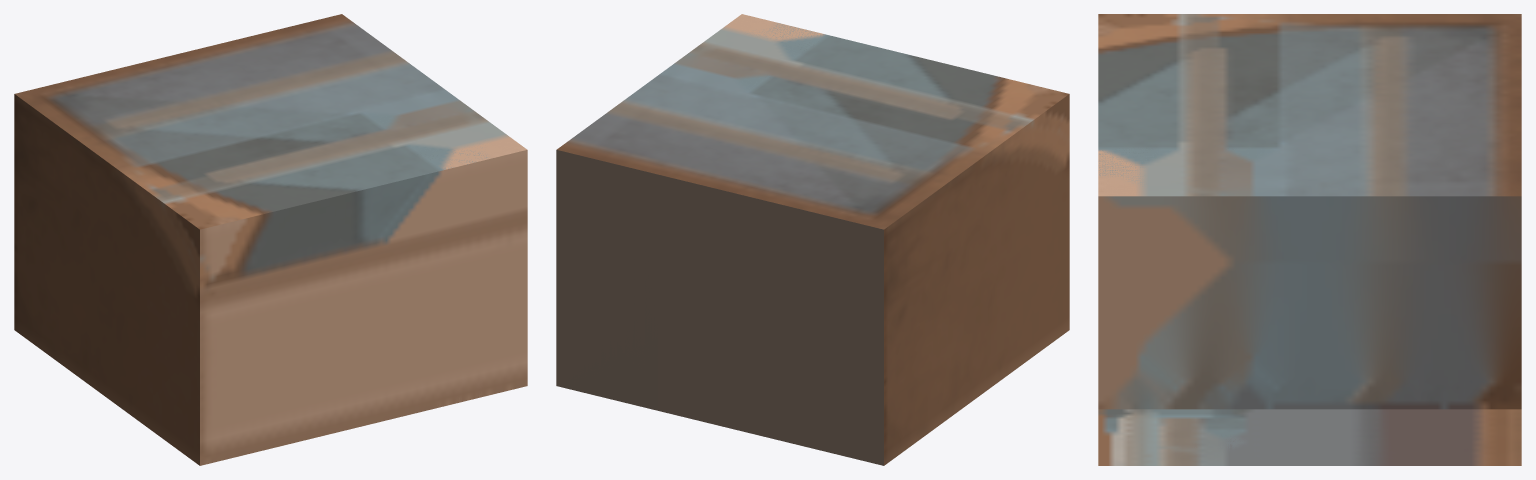
Rendered from section-2.obj.
The picture shows the model from 3 angles, left to right: view 1: azimuth 30°, elevation 25°; view 2: azimuth 150°, elevation 25°; view 3: azimuth 270°, elevation 25°; orthographic projection. The views are drawn at different scales.
Size of the model in its own units: 0.993 by 0.6846 by 0.9741.
1 material, 1 textured.
